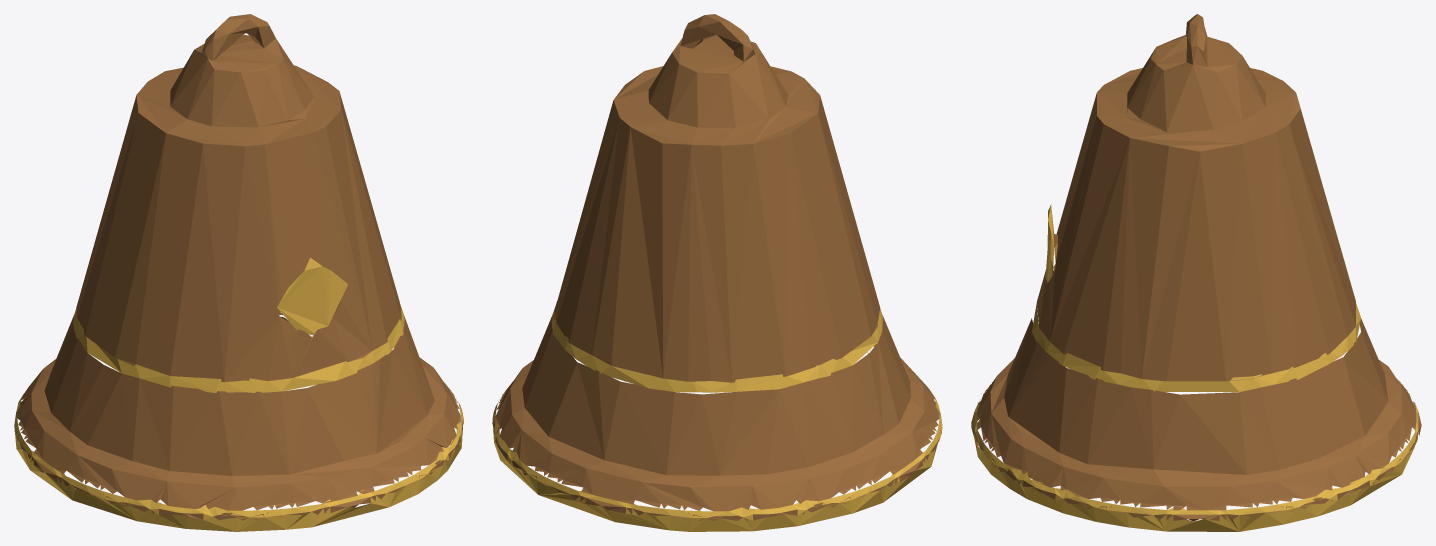
Rendered from great_bell.glb.
3 renders of one model, left to right at view 1: azimuth 30°, elevation 25°; view 2: azimuth 150°, elevation 25°; view 3: azimuth 270°, elevation 25°, orthographic.
Parts seen in each view (by area): view 1: great_bell; view 2: great_bell; view 3: great_bell.
Boxes of the visible parts, x1,y1,x2,y2 form: great_bell: (14,14,463,531); great_bell: (492,14,942,531); great_bell: (971,14,1421,531).
Bounding box in the file's own units: 3.05 × 3.15 × 3.05.
